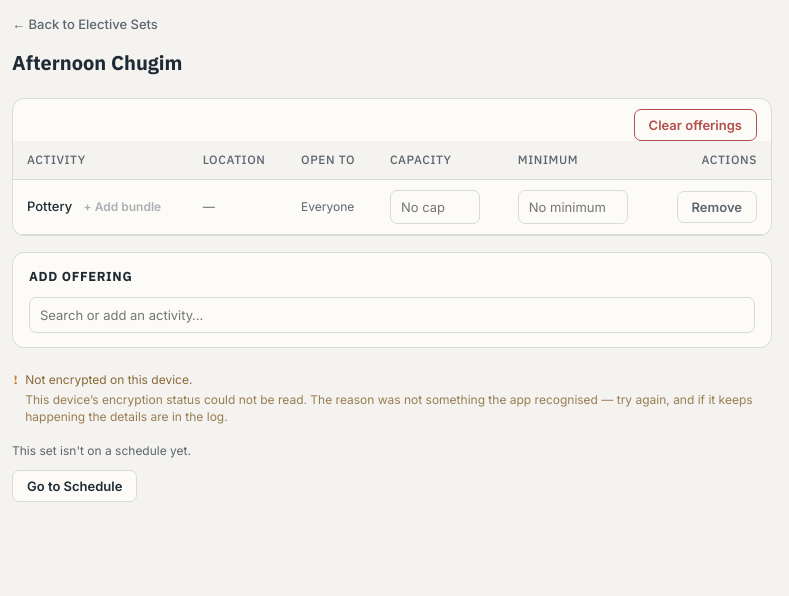
Test: ElectiveSetDetail — offerings table › surfaces a failed minimum write through describeWriteFailure
Expected: the text "Pottery" is shown, [27,198,72,214]
In the field named "Minimum to run Pottery": (573, 207) [518,190,628,224], type "5"
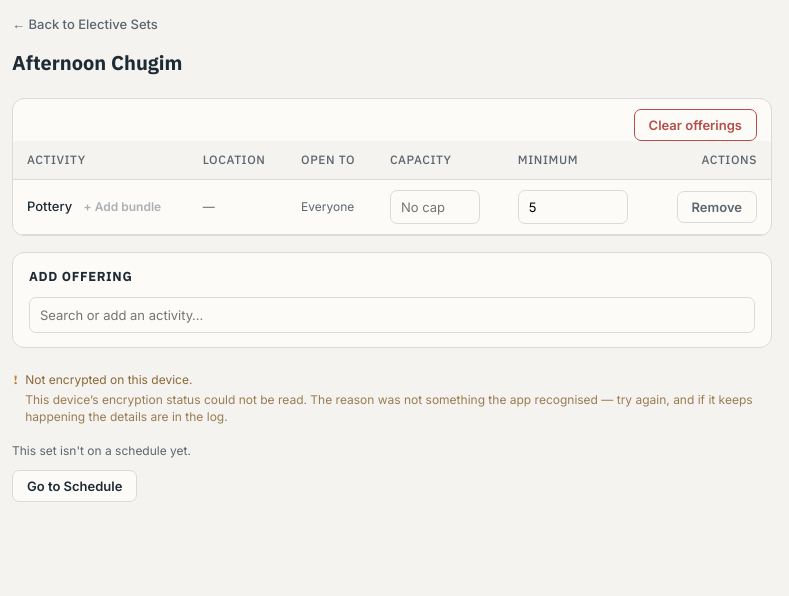
Leave the field named "Minimum to run Pottery", box [518,190,628,224]
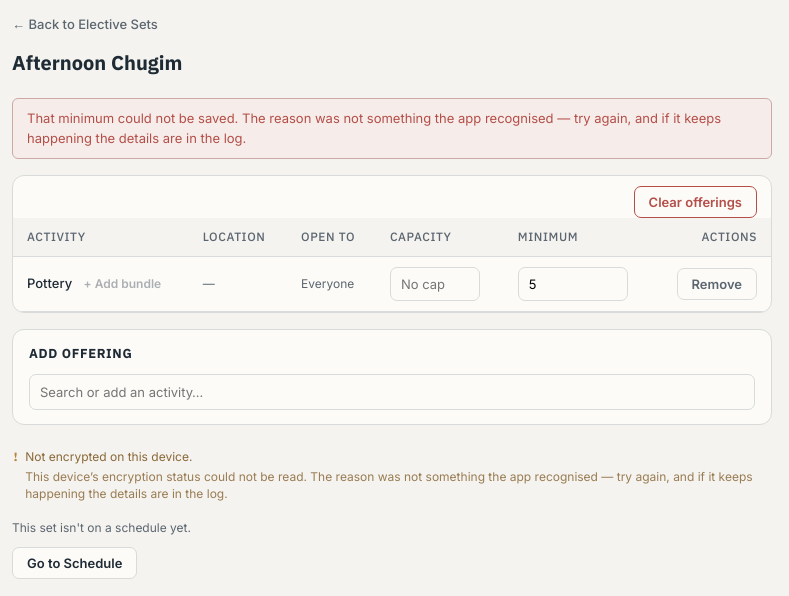
Expected: the text "minimum could not be saved" is shown, [27,110,721,146]
